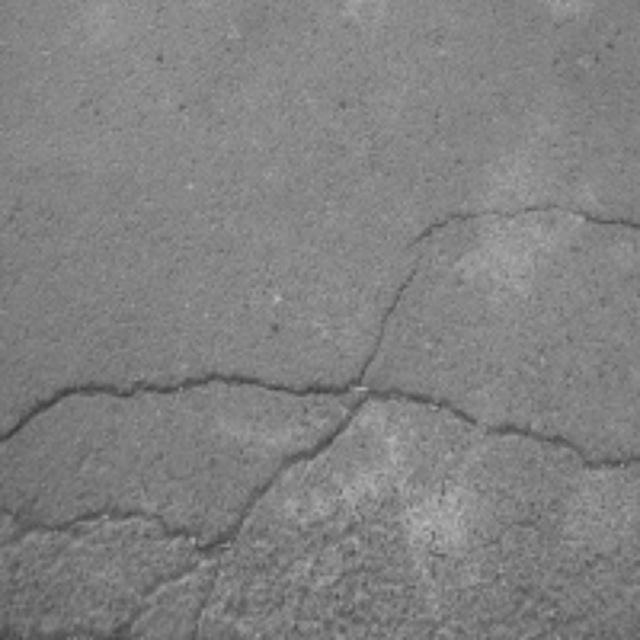Crack: (12, 204, 640, 612)
